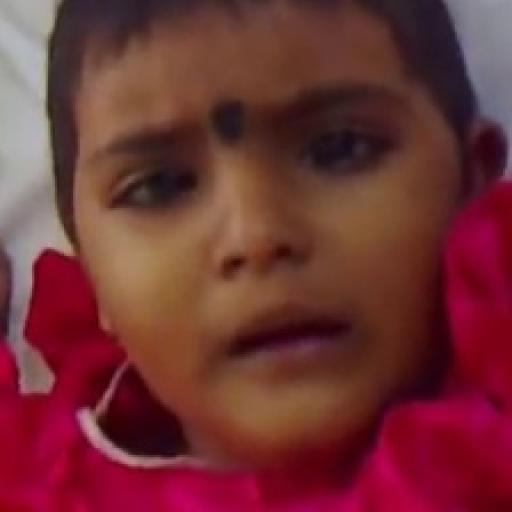Autism: (50, 2, 485, 462)
